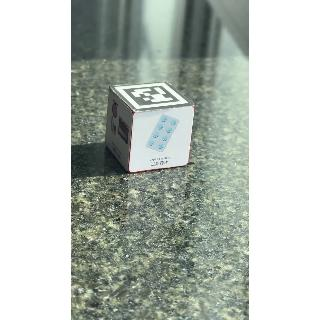Tablet: (133, 110, 197, 170)
